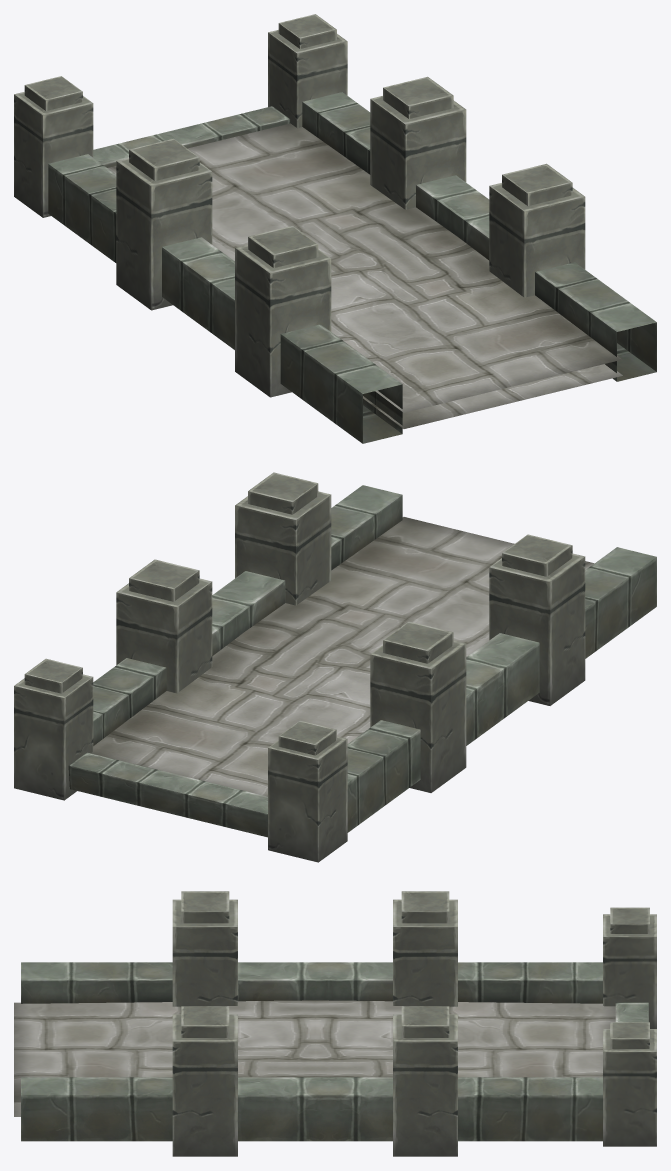
Rendered from bridge_04c_tile_01.fbx.
3 views of the same model, one above another, from view 1: azimuth 30°, elevation 25°; view 2: azimuth 150°, elevation 25°; view 3: azimuth 270°, elevation 25° (orthographic). The views are drawn at different scales.
Parts seen in each view (by area): view 1: bridge_04c_tile_01Mesh; view 2: bridge_04c_tile_01Mesh; view 3: bridge_04c_tile_01Mesh.
Boxes of the visible parts, x1=… form: bridge_04c_tile_01Mesh: x1=14, y1=14, x2=656, y2=443; bridge_04c_tile_01Mesh: x1=14, y1=472, x2=656, y2=862; bridge_04c_tile_01Mesh: x1=14, y1=891, x2=656, y2=1156.
Size of the model in its own units: 2.98 by 1.23 by 5.69.
